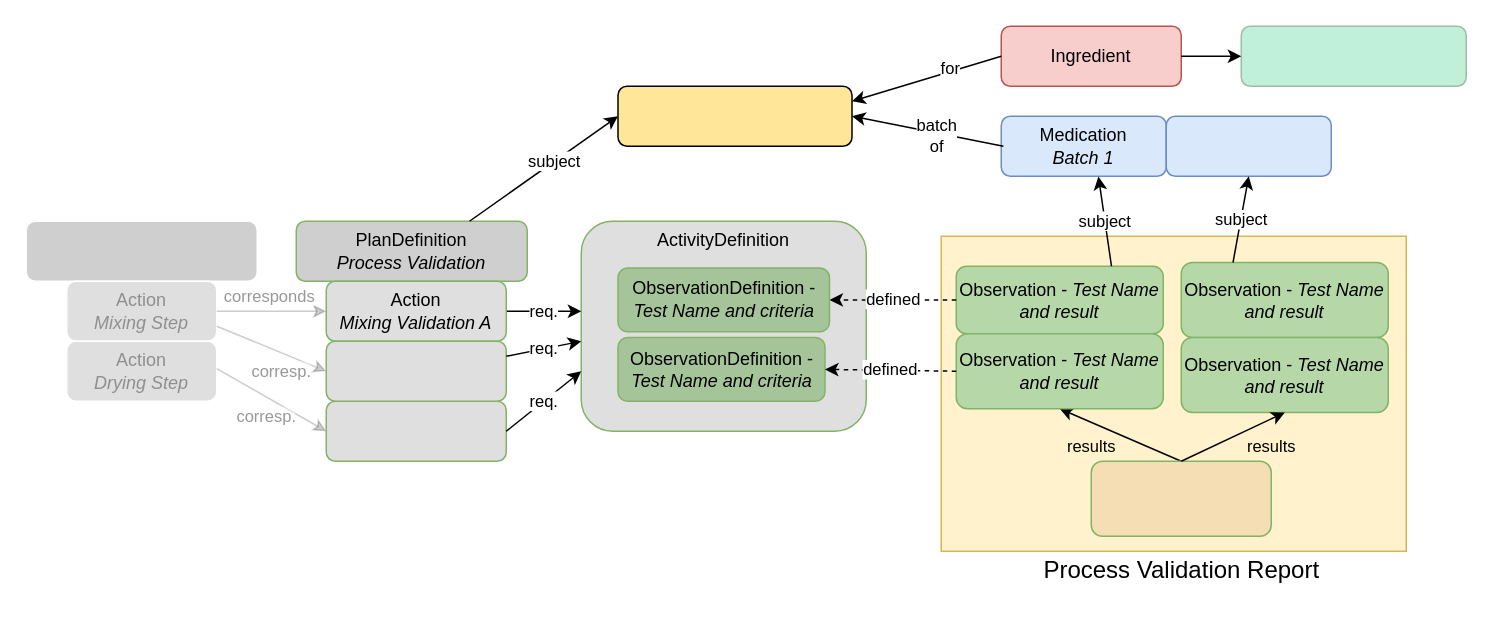
This 1493x623 diagram has some shape labels left out. The shapes that lost their labels are listed below. From the top down, each one's centre as x and y in pixels, then its label:
[1353,55]: SubstanceDefinition Stelbatolol
[734,115]: MedicinalProductDefinition Stelbat Tablets, 20mg
[1248,145]: Medication Batch 2
[141,250]: PlanDefinition Manufacturing
[415,370]: Action Mixing Validation B
[415,430]: Action Drying Validation
[1180,498]: DiagnosticReport List of values and conclusion
